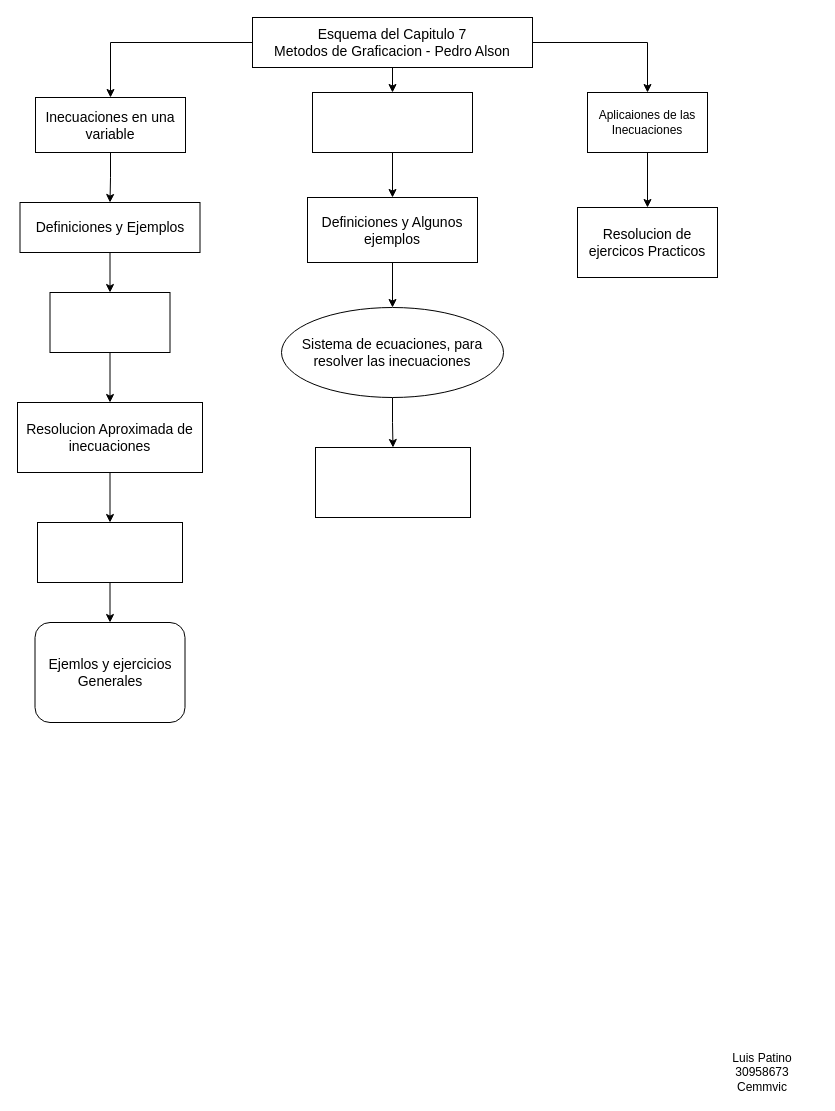
Image size: 835x1111. Some labels were removed from this diagram. Each missing label, with the centre of its shape:
Inecuaciones con dos variables: pixel 392 122
Inecuaciones con valor absoluto: pixel 109 552
Inecuaciones sin Valor Absoluto: pixel 109 322
Resolucion de Inecuaciones con dos variables: pixel 392 482
